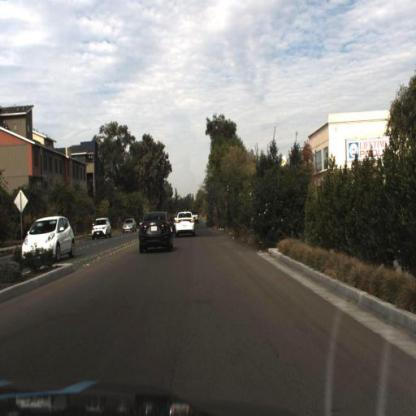car: (13, 212, 80, 271), (16, 214, 75, 265), (136, 203, 178, 262), (170, 204, 201, 247), (89, 215, 112, 242), (90, 216, 112, 242), (119, 212, 137, 238), (164, 217, 176, 241)
